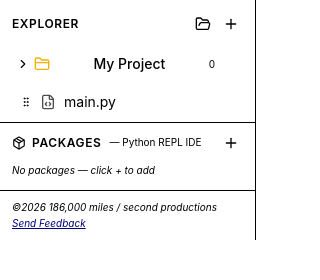
Test: ExplorerPane › shows empty project message when expanded project has no files
This screenshot has width=320, height=280.
Step 1. Click the button "My Project" → [110, 64], box top-left (16, 54), bottom-right (205, 74)
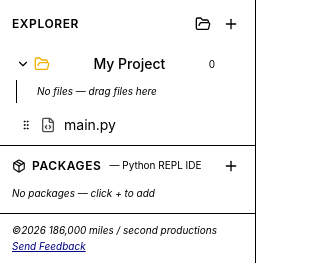
Now the text "No files — drag files here" is shown, box top-left (37, 85), bottom-right (157, 97)
